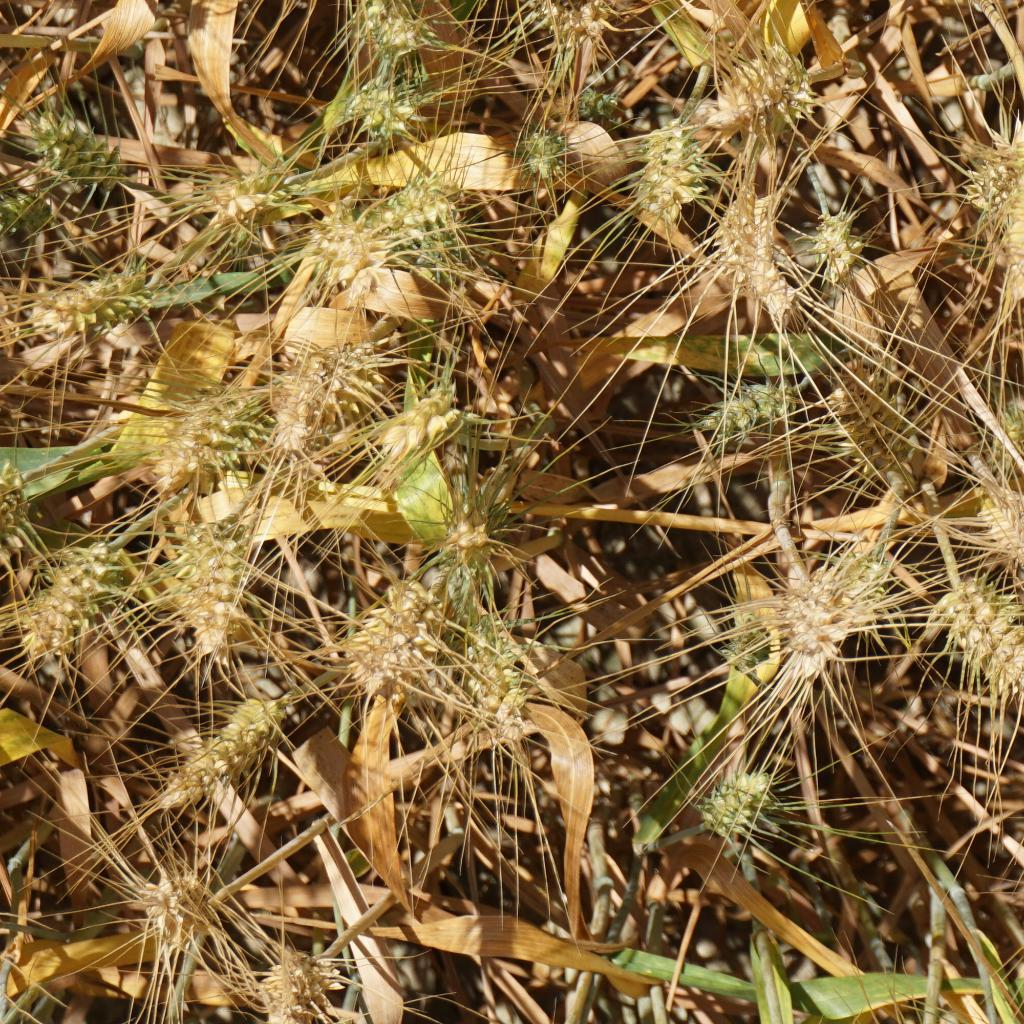0-0: (250, 334, 396, 485), (134, 389, 264, 515), (169, 689, 300, 806), (336, 568, 444, 709), (822, 356, 918, 482), (795, 546, 890, 671), (931, 576, 1024, 696), (720, 183, 800, 320), (18, 546, 109, 665), (687, 362, 800, 454), (166, 524, 240, 659), (38, 257, 144, 347), (449, 608, 533, 720), (381, 378, 473, 471), (712, 44, 810, 129), (130, 864, 218, 957), (631, 116, 705, 226), (246, 935, 339, 1020), (775, 557, 843, 661), (372, 170, 466, 244), (31, 109, 116, 190), (696, 768, 780, 848), (355, 0, 446, 69), (439, 469, 502, 564), (803, 200, 874, 280), (512, 119, 588, 190), (345, 79, 423, 147), (304, 210, 375, 284), (961, 139, 1016, 227), (982, 466, 1024, 577), (210, 167, 274, 236), (439, 537, 493, 612), (0, 179, 58, 246), (559, 0, 631, 51), (991, 390, 1024, 484), (0, 472, 31, 568)
